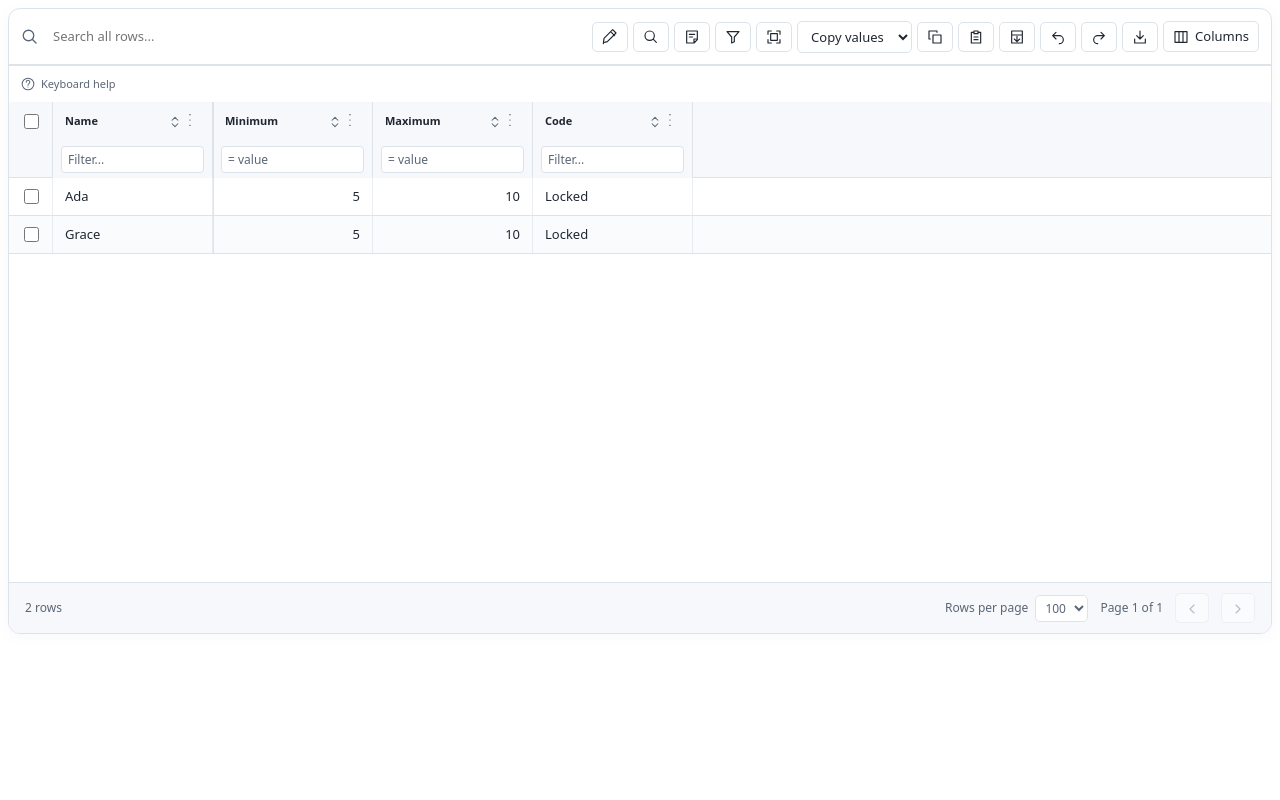
it: DataGrid row editing mode › forwards explicit overwrite policy to the row session
Press F2 in the cell "Ada", box left=53, top=178, right=213, bottom=215
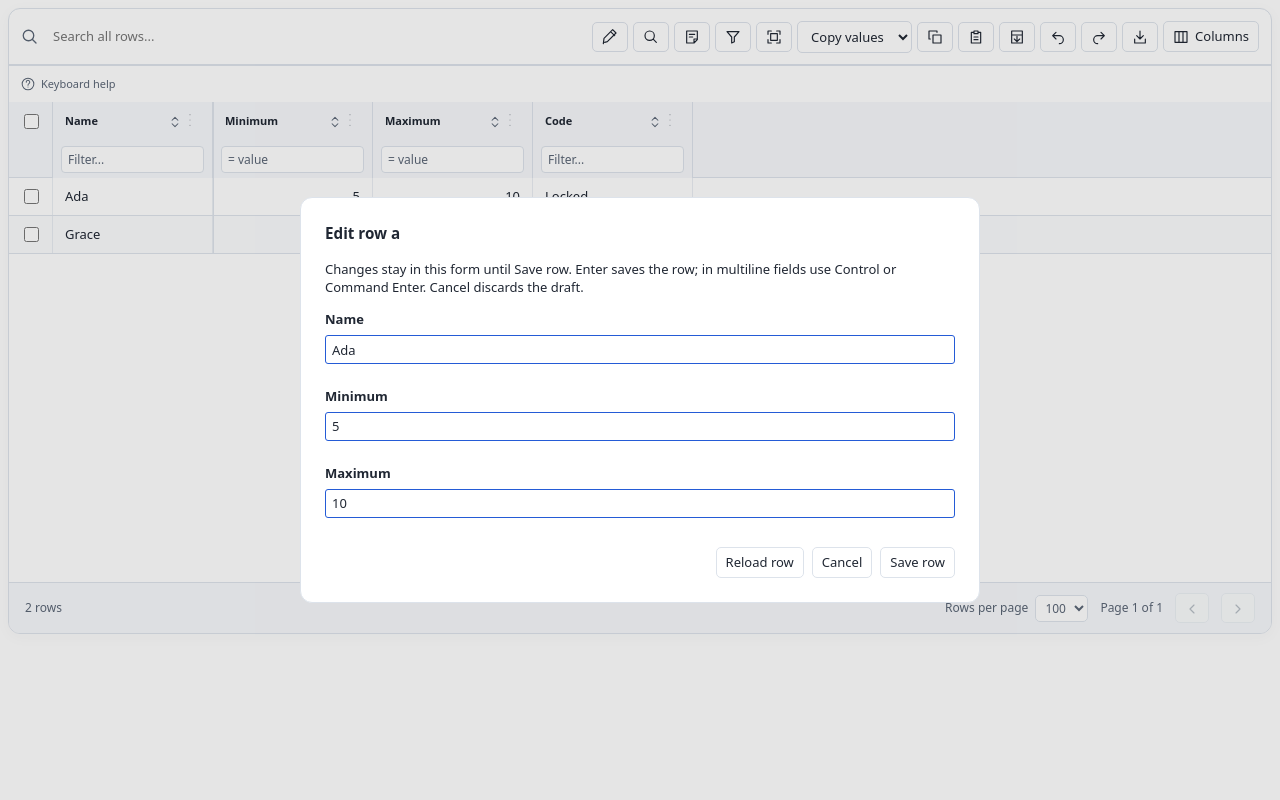
Replace the text in the field named "Edit Name" with "Local wins" at [640, 350], box left=325, top=335, right=955, bottom=364
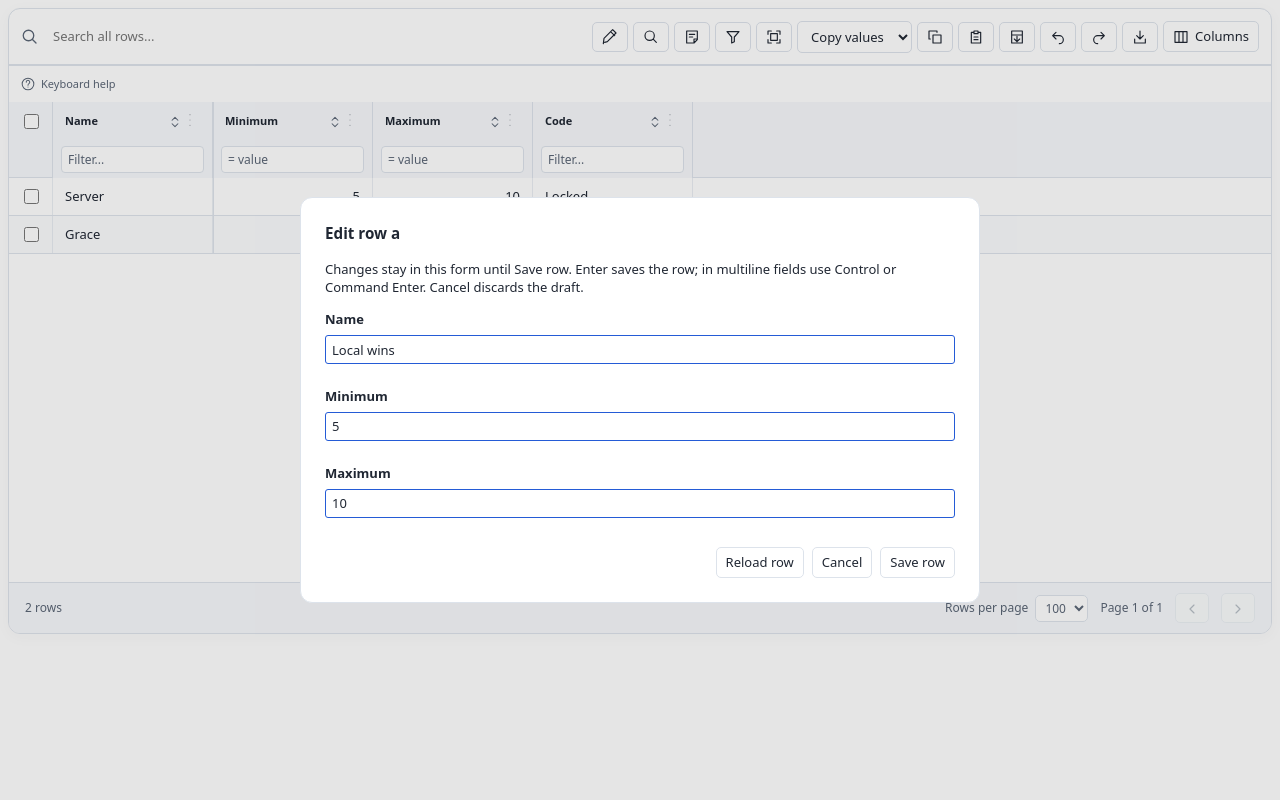
Click the button "Save row".
click(918, 562)  # box left=880, top=547, right=955, bottom=578
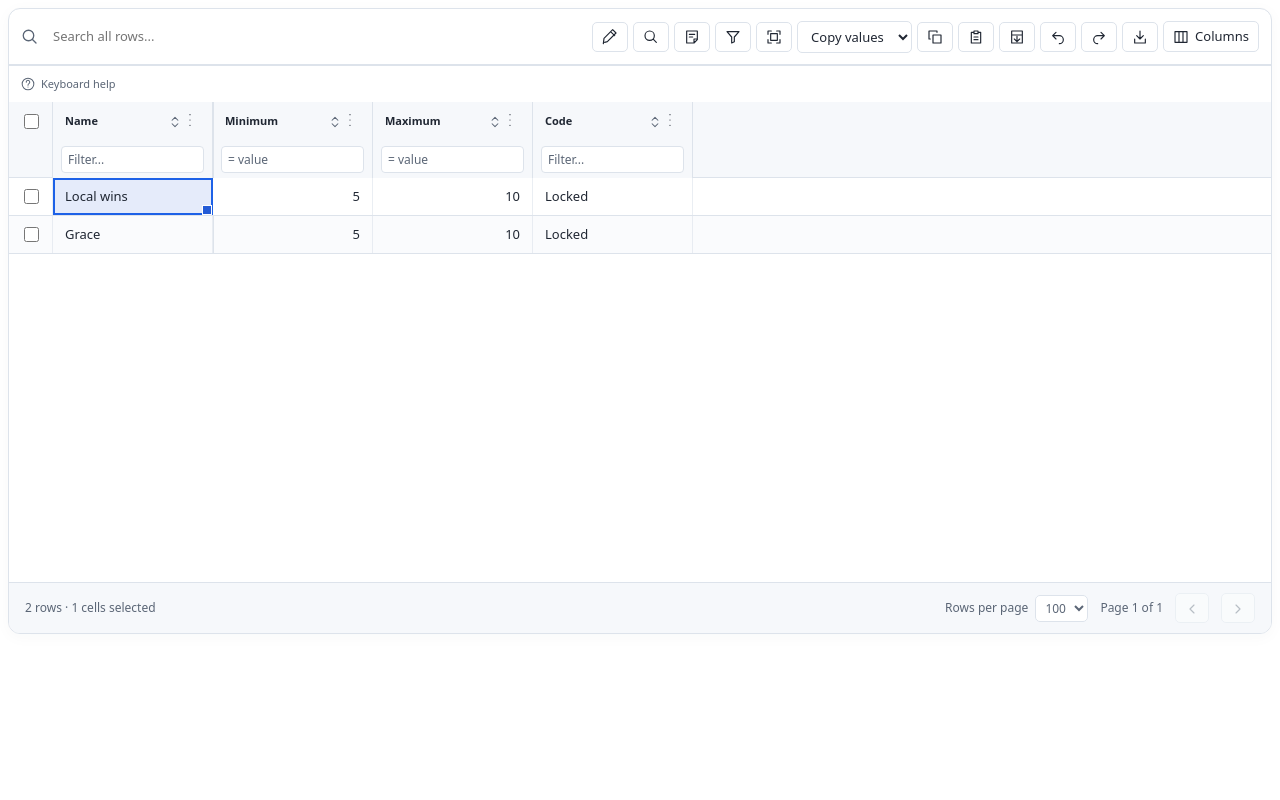
Check: the dialog is gone
Check: the text "Local wins" is shown, box left=65, top=187, right=128, bottom=206
